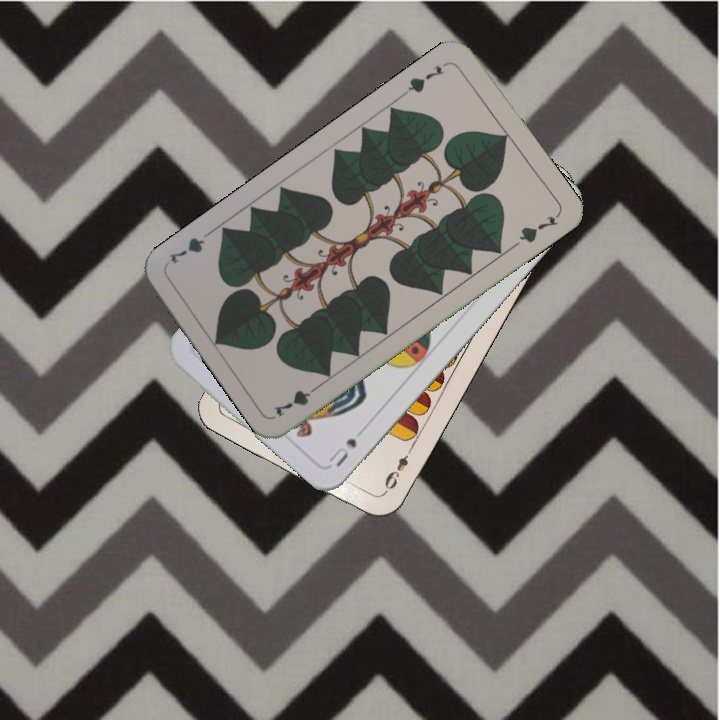E9: (378, 444, 416, 497)
G7: (269, 379, 324, 420), (399, 58, 451, 97)
SU: (324, 434, 360, 470)
